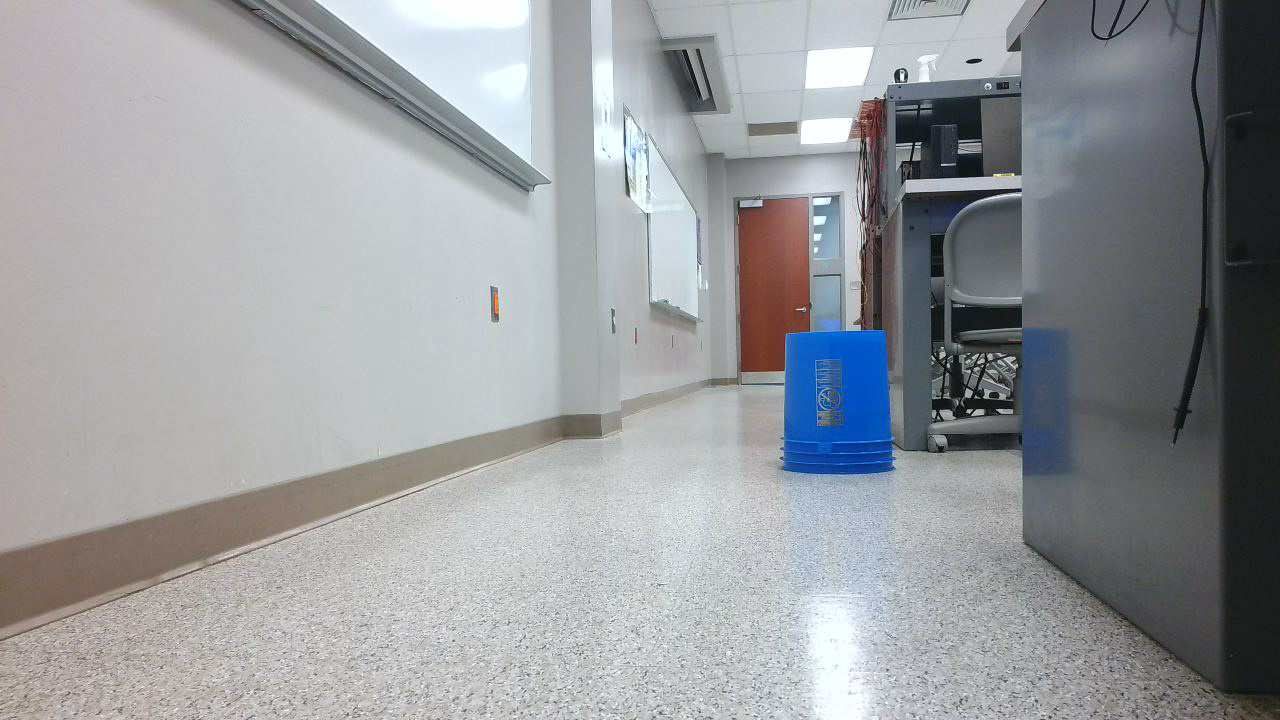blue_bucket: (779, 332, 908, 483)
